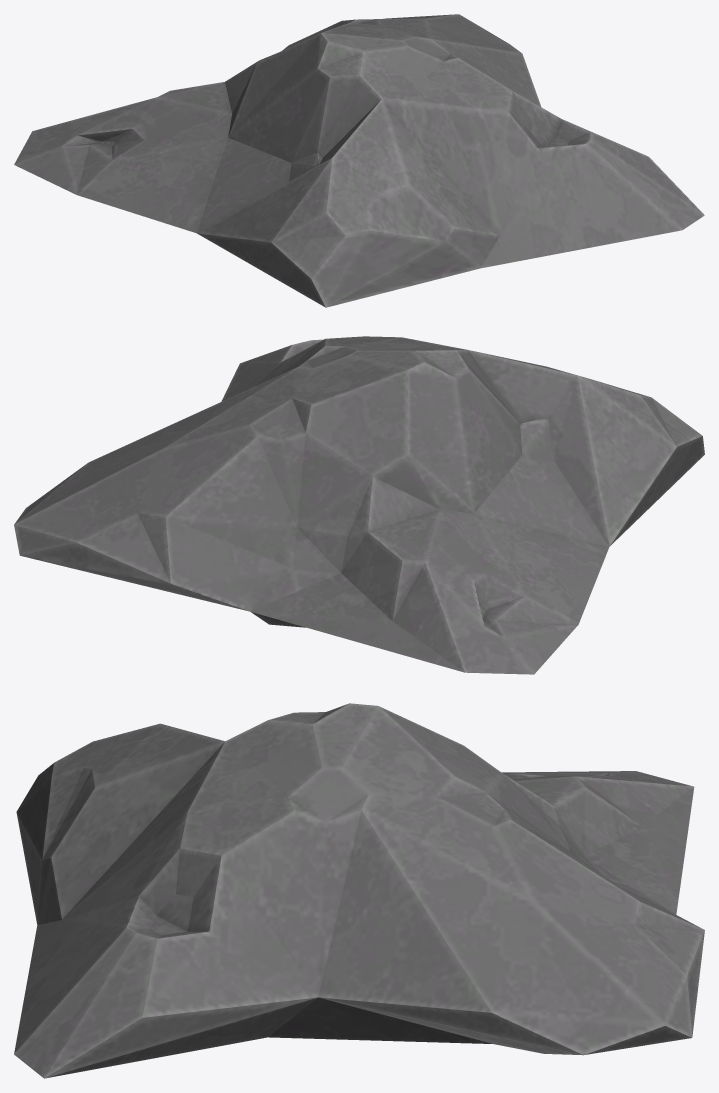
File: IronJunkCast_Polished.glb
The picture shows the model from 3 angles, top to bottom: view 1: azimuth 30°, elevation 25°; view 2: azimuth 150°, elevation 25°; view 3: azimuth 270°, elevation 25°; orthographic projection. The views are drawn at different scales.
Visible parts, largest first — view 1: IronJunkCast_Polished; view 2: IronJunkCast_Polished; view 3: IronJunkCast_Polished.
Boxes of the visible parts, x1=… form: IronJunkCast_Polished: x1=14, y1=14, x2=704, y2=307; IronJunkCast_Polished: x1=14, y1=336, x2=704, y2=674; IronJunkCast_Polished: x1=14, y1=703, x2=704, y2=1078.
Bounding box in the file's own units: 0.5571 × 0.1926 × 0.5258.
Materials: 1 (1 with a texture image).
